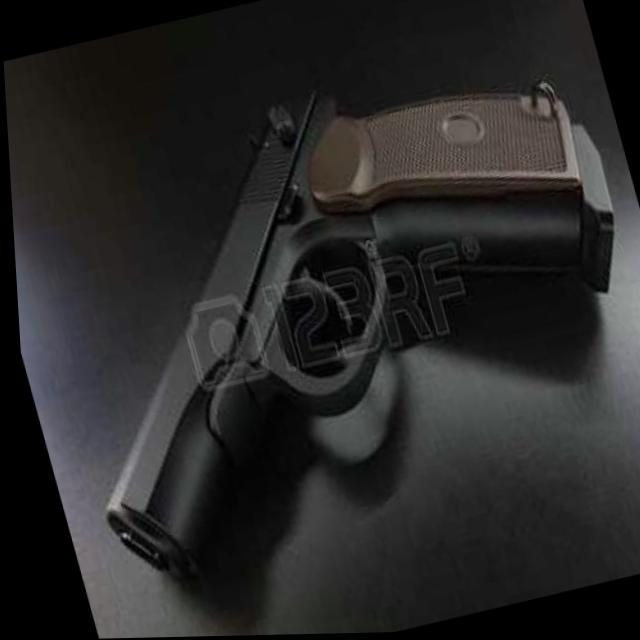weapon: (2, 24, 640, 602)
